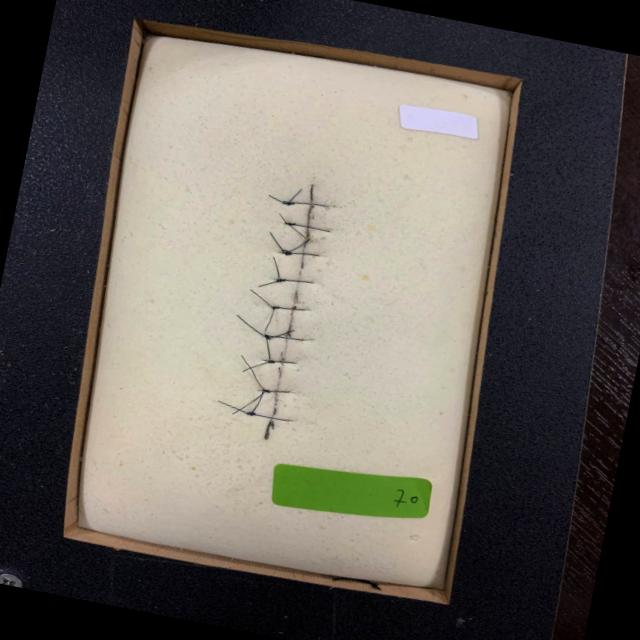knot: (280, 199, 297, 207), (274, 277, 288, 284), (245, 411, 258, 418), (283, 221, 298, 227), (283, 250, 295, 257), (270, 305, 282, 312), (261, 388, 273, 395), (266, 359, 278, 365), (263, 333, 272, 340)
leftover: (240, 355, 266, 391), (231, 389, 267, 415), (236, 315, 266, 338), (249, 289, 274, 309), (218, 400, 250, 415), (281, 238, 311, 253), (269, 232, 287, 254), (250, 388, 264, 414), (242, 361, 270, 372), (288, 223, 307, 239), (266, 329, 295, 339), (286, 188, 303, 204), (264, 307, 275, 331), (272, 257, 280, 282), (268, 195, 286, 204), (265, 336, 271, 362), (258, 280, 278, 287), (279, 213, 287, 224)
stitch: (249, 412, 291, 422), (287, 223, 330, 232), (266, 335, 305, 341), (285, 202, 326, 207), (276, 279, 314, 284), (272, 306, 306, 311), (281, 252, 319, 256), (262, 360, 296, 364), (261, 389, 291, 393)
wound: (264, 185, 313, 438)
